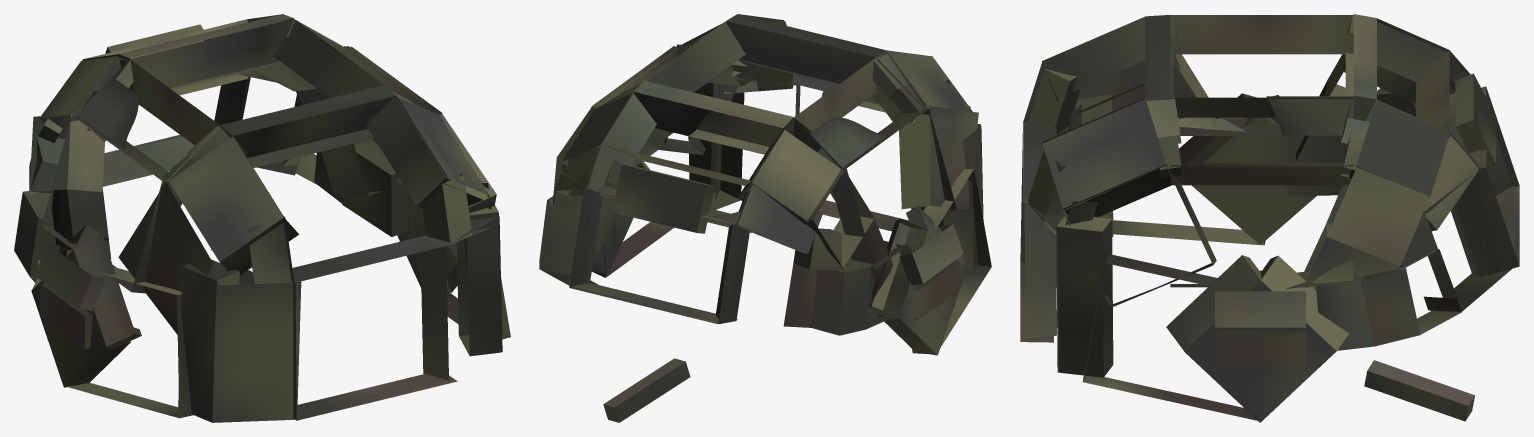
Rendered from bydlovka_h.obj.
3 renders of one model, left to right at view 1: azimuth 30°, elevation 25°; view 2: azimuth 150°, elevation 25°; view 3: azimuth 270°, elevation 25°, orthographic. The views are drawn at different scales.
Parts seen in each view (by area): view 1: cuboid; view 2: cuboid; view 3: cuboid.
Part boxes in pixels (x1,y1,x2,y2): cuboid: (14, 14, 510, 422); cuboid: (539, 14, 991, 422); cuboid: (1020, 14, 1519, 422).
Size of the model in its own units: 0.8065 by 0.6333 by 0.8584.
